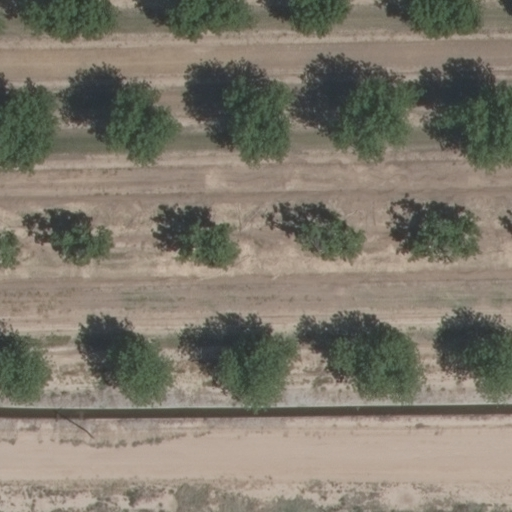DT: (76, 425, 99, 445)
